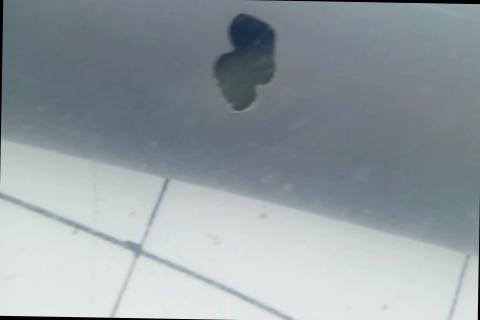kebocoran: (209, 9, 277, 114)
